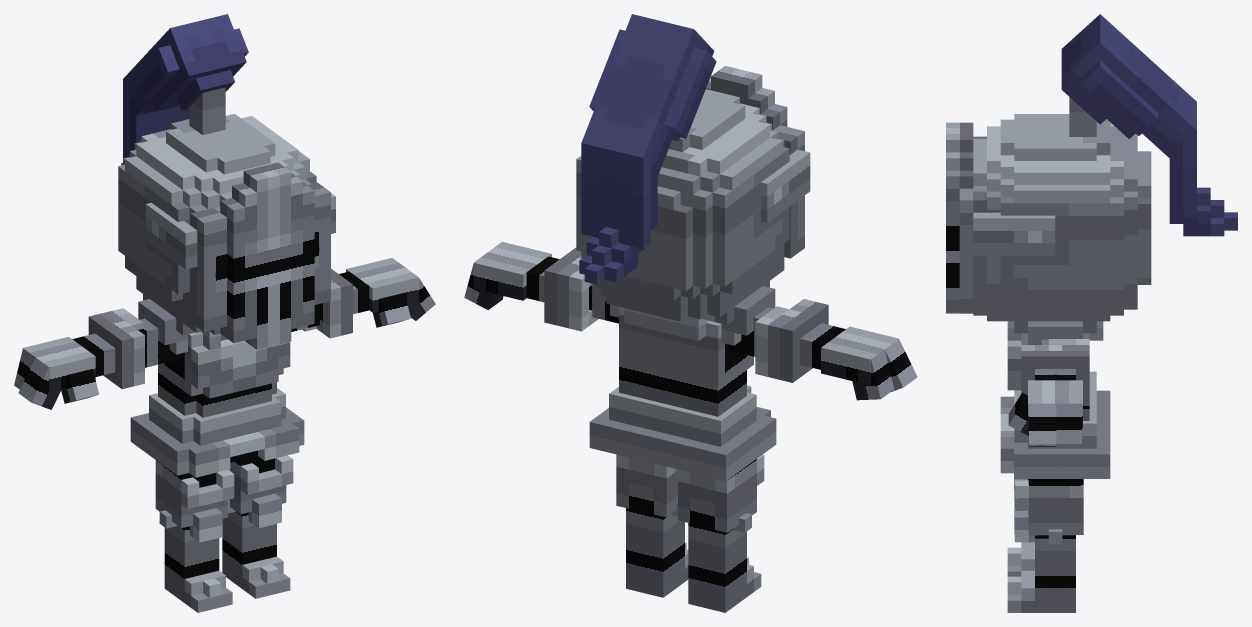
The model's file is Knight_01.gltf.
3 renders of one model, left to right at view 1: azimuth 30°, elevation 25°; view 2: azimuth 150°, elevation 25°; view 3: azimuth 270°, elevation 25°, orthographic. The views are drawn at different scales.
Visible parts, largest first — view 1: Model (×15); view 2: Model (×16); view 3: Model (×12).
Boxes of the visible parts, <box> form: Model (×15): <box>14,14,435,612</box>; Model (×16): <box>464,14,917,612</box>; Model (×12): <box>946,14,1237,612</box>.
Size of the model in its own units: 2.19 by 2.83 by 1.33.
11 materials, 11 textured.
